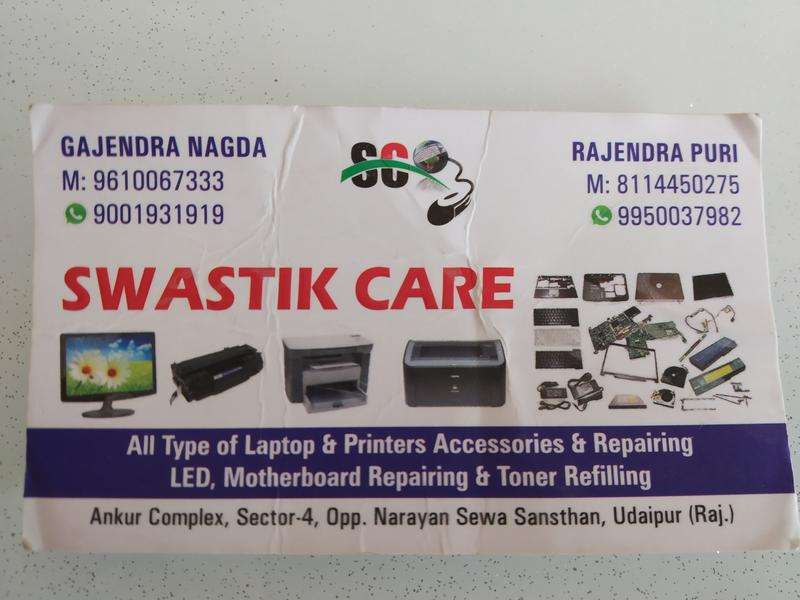card: (25, 103, 799, 554)
